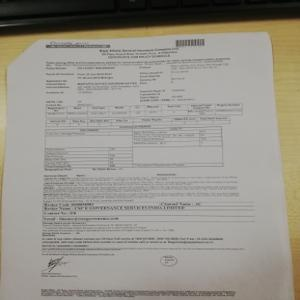image: (44, 39, 111, 51)
table: (45, 125, 222, 166), (47, 103, 243, 124)
text: (40, 174, 270, 257), (47, 57, 234, 104)
